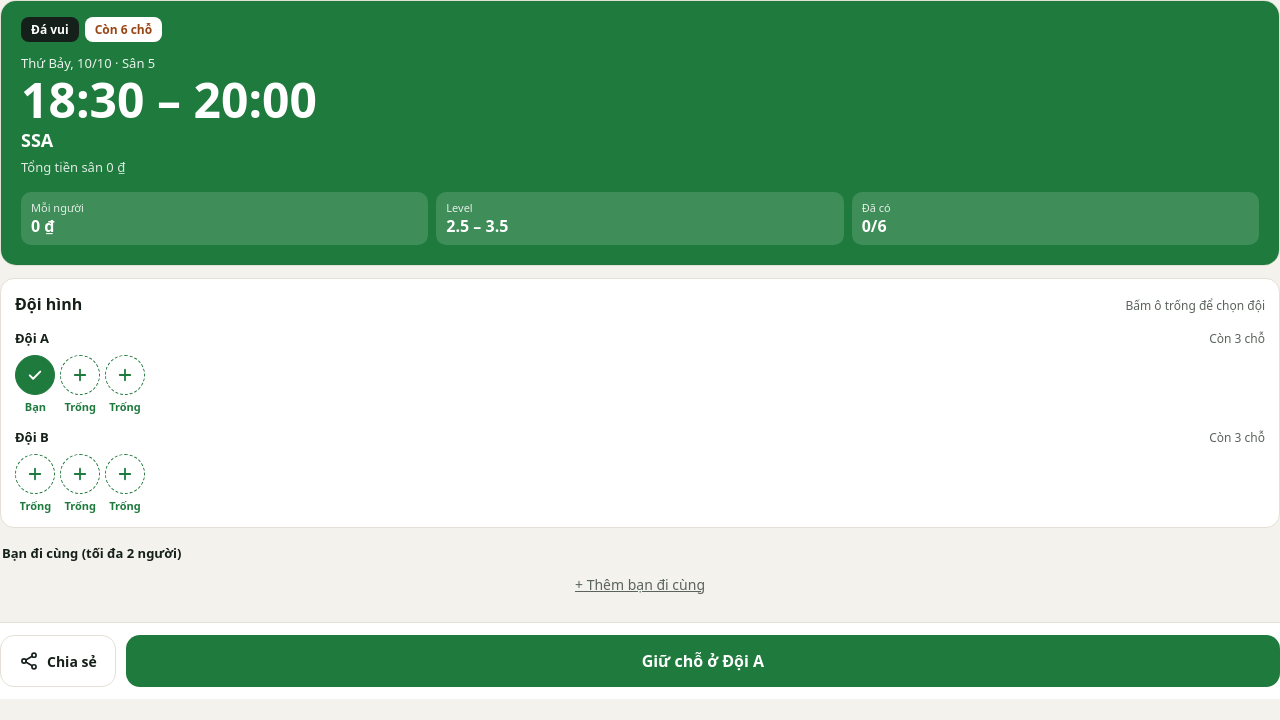
it: TeamSlots › allows at most two guests
Click the button "+ Thêm bạn đi cùng" at (640, 584), box x1=0 y1=562 x2=1279 y2=606
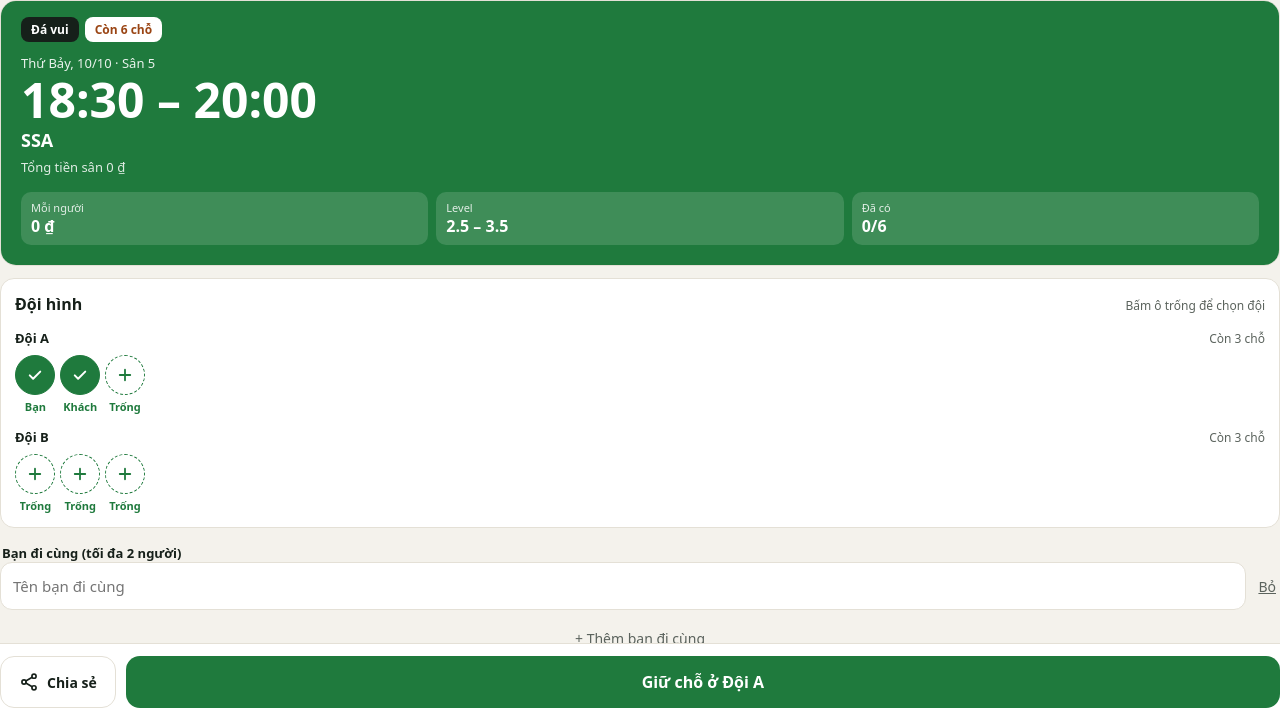
Click the button "+ Thêm bạn đi cùng" at (640, 638), box x1=0 y1=616 x2=1279 y2=660
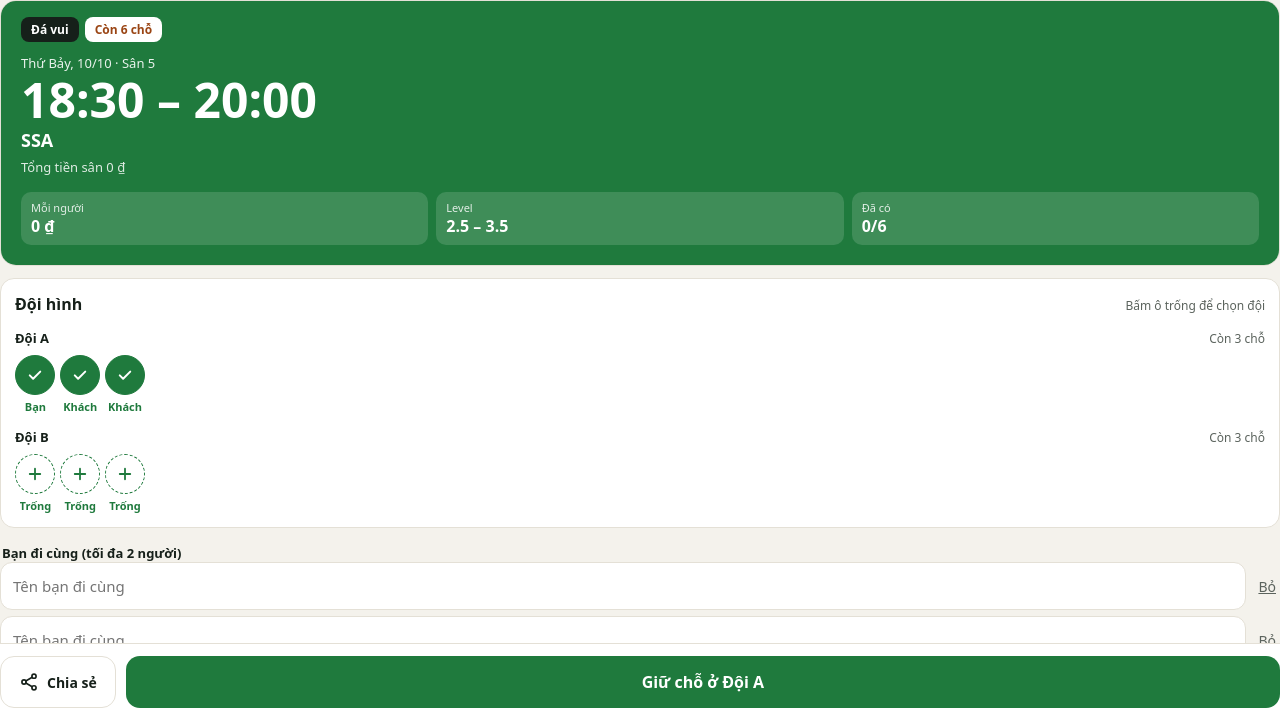
Expected: the number of fields with placeholder "Tên bạn đi cùng" is 2, x1=0 y1=562 x2=1246 y2=610; x1=0 y1=616 x2=1246 y2=664
Expected: the button "+ Thêm bạn đi cùng" is gone
